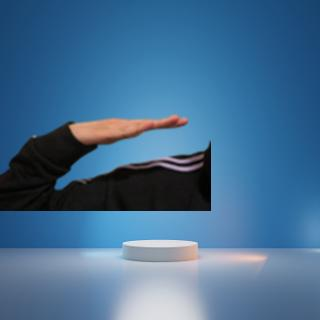Wait: (69, 109, 192, 147)
